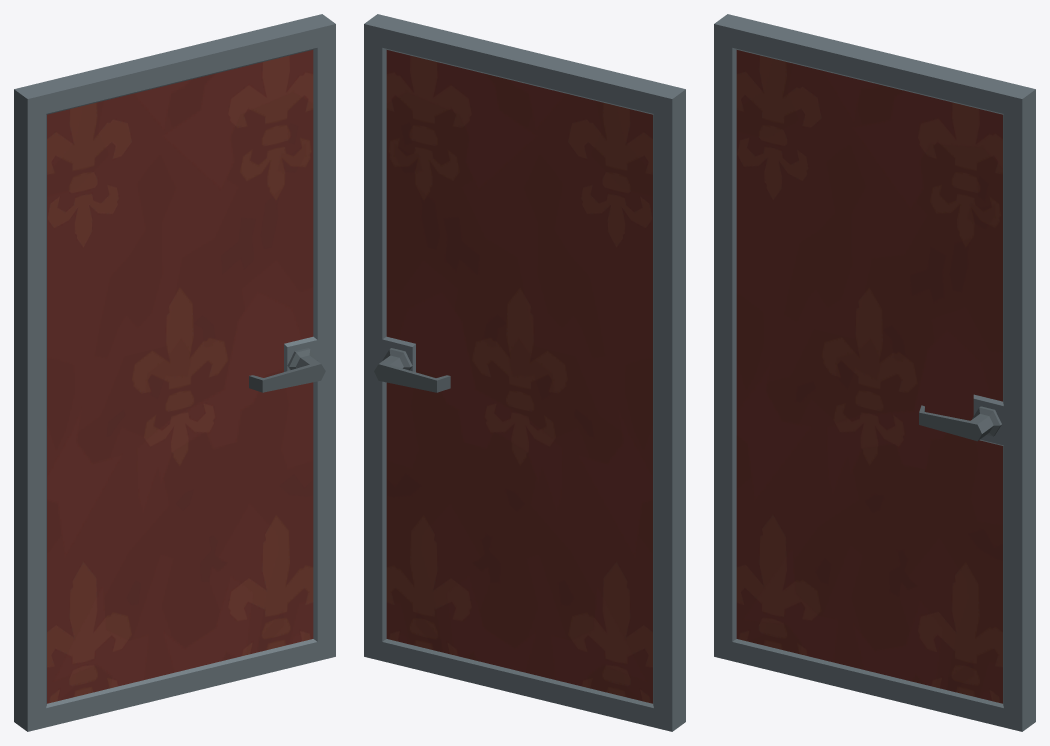
File: SM_Bld_Door_01_1512.obj
3 views of the same model, side by side, from view 1: azimuth 30°, elevation 25°; view 2: azimuth 150°, elevation 25°; view 3: azimuth 330°, elevation 25° (orthographic).
Visible parts, largest first — view 1: SM_Bld_Door_01_1, SM_Bld_Door_01_0; view 2: SM_Bld_Door_01_1, SM_Bld_Door_01_0; view 3: SM_Bld_Door_01_1, SM_Bld_Door_01_0.
Boxes of the visible parts, <box> form: SM_Bld_Door_01_1: <box>47,50,313,703</box>; SM_Bld_Door_01_0: <box>14,14,335,731</box>; SM_Bld_Door_01_1: <box>386,50,652,703</box>; SM_Bld_Door_01_0: <box>364,14,685,731</box>; SM_Bld_Door_01_1: <box>736,50,1002,703</box>; SM_Bld_Door_01_0: <box>714,14,1035,731</box>.
Size of the model in its own units: 1 by 1.97 by 0.2473.
Materials: 2 (2 with a texture image).
